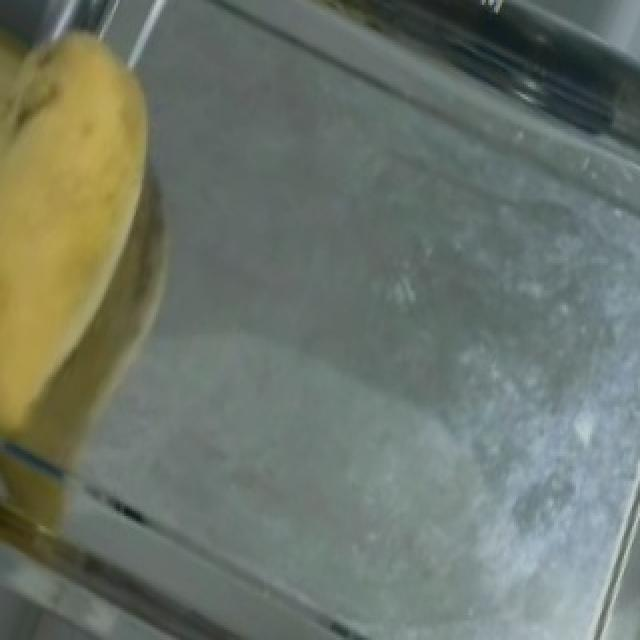fruit: (0, 5, 228, 375)
